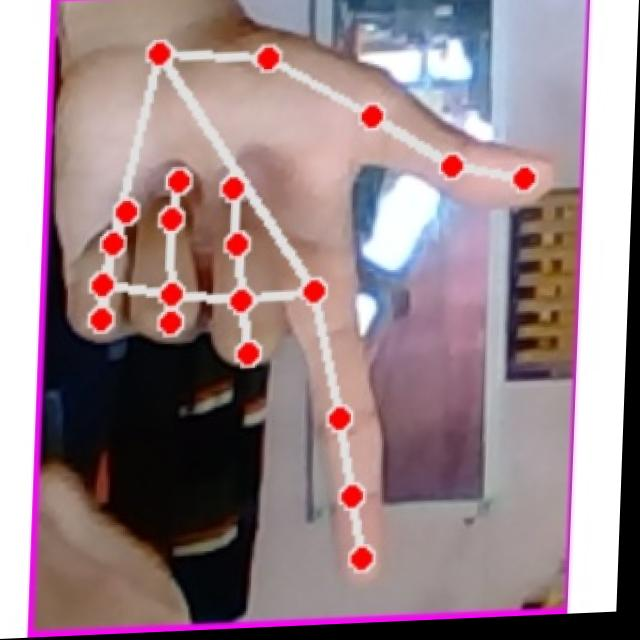L: (49, 5, 575, 604)
